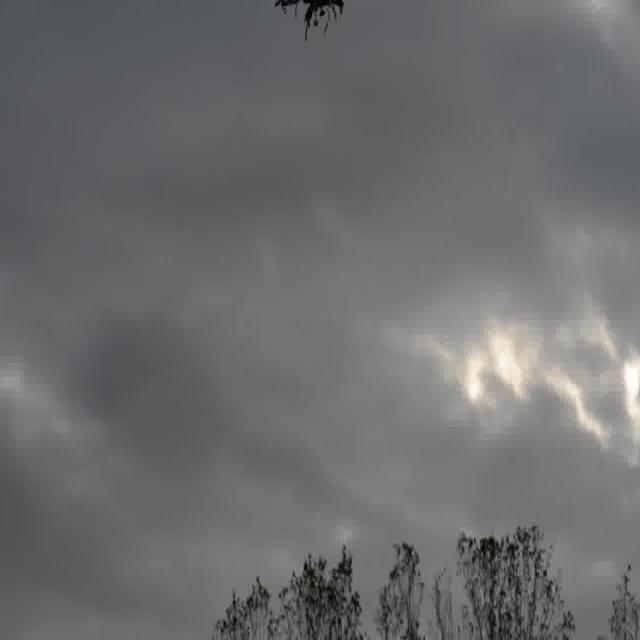drones: (264, 0, 353, 52)
